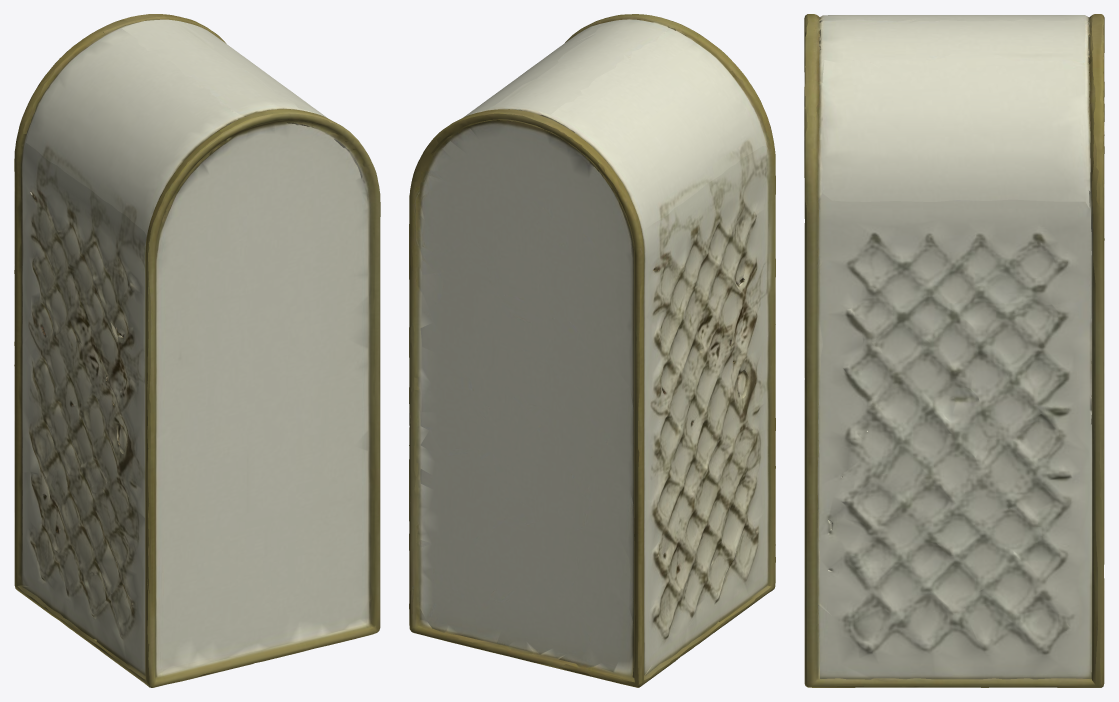
Rendered from L_MIRROR.glb.
3 views of the same model, side by side, from view 1: azimuth 30°, elevation 25°; view 2: azimuth 150°, elevation 25°; view 3: azimuth 270°, elevation 25° (orthographic). The views are drawn at different scales.
Visible parts, largest first — view 1: world; view 2: world; view 3: world.
Part boxes in pixels (x1,y1,x2,y2): world: (14, 14, 380, 687); world: (409, 14, 775, 687); world: (804, 14, 1104, 687).
Size of the model in its own units: 1.8 by 4.01 by 1.82.
Materials: 1 (1 with a texture image).
